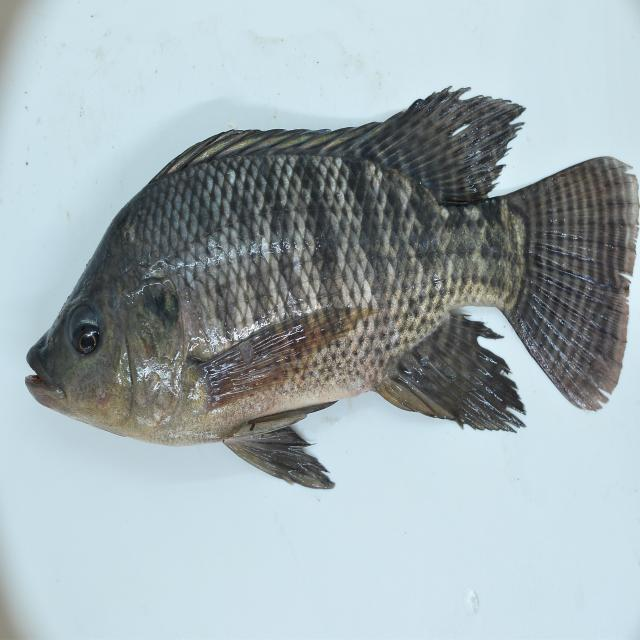Healthy Fish: (23, 85, 640, 493)
